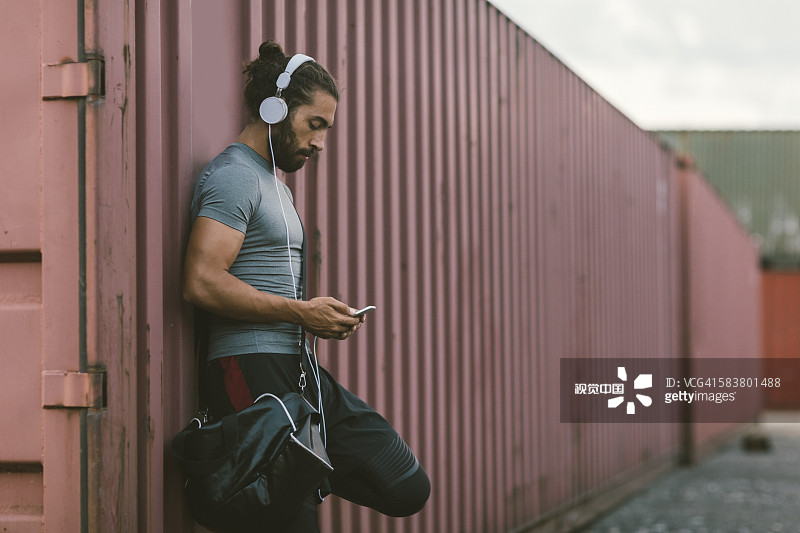reading: (287, 286, 384, 342)
